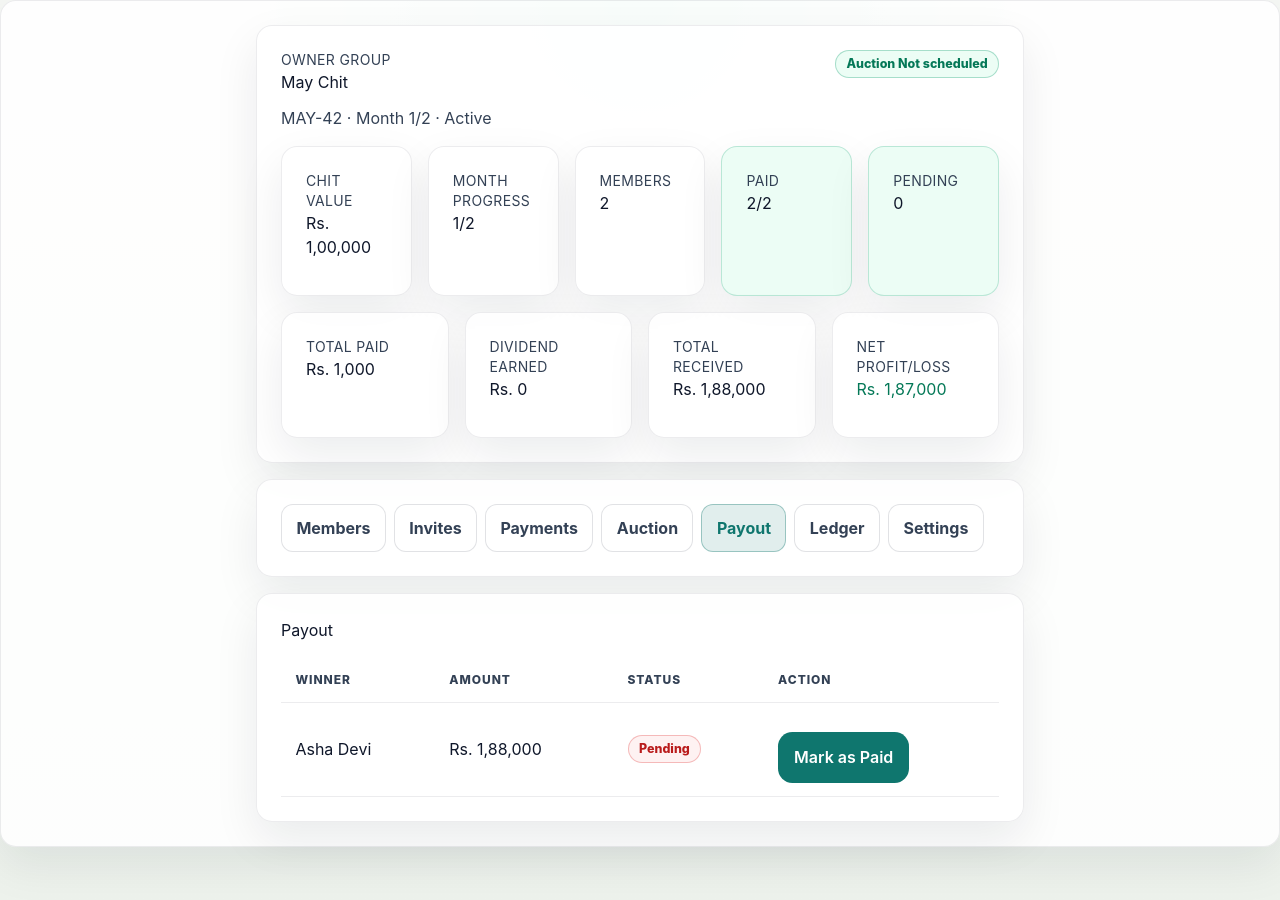
Scenario: marks pending payout paid through backend and removes duplicate action
Click the button "Mark as Paid" at (844, 757), box [778,732,909,783]
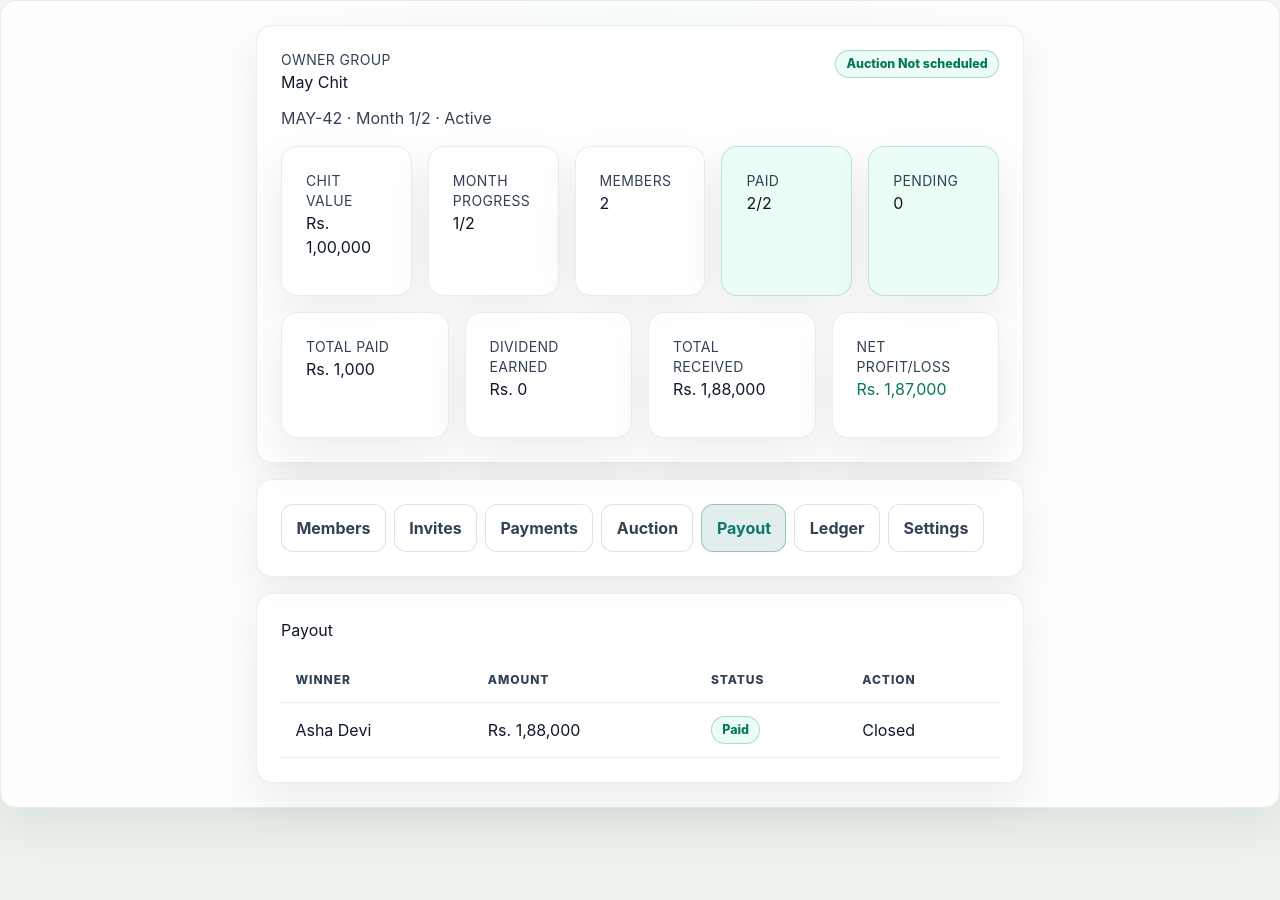
Result: the text "Closed" is shown at [848,702,999,757]
Result: the button "Mark as Paid" is gone
